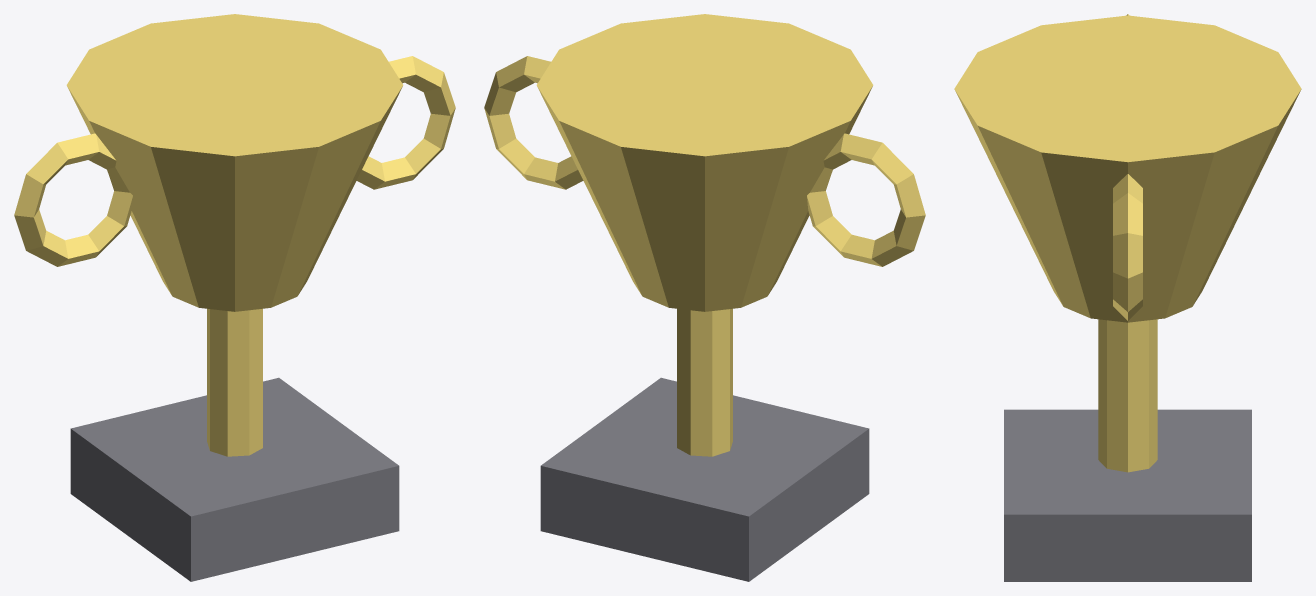
File: trofeo.glb
3 views of the same model, side by side, from view 1: azimuth 30°, elevation 25°; view 2: azimuth 150°, elevation 25°; view 3: azimuth 270°, elevation 25° (orthographic). The views are drawn at different scales.
Visible parts, largest first — view 1: trofeo; view 2: trofeo; view 3: trofeo.
Boxes of the visible parts, left/top/right/bottom form: trofeo: left=14, top=14, right=455, bottom=581; trofeo: left=484, top=14, right=925, bottom=581; trofeo: left=954, top=14, right=1301, bottom=581.
Bounding box in the file's own units: 1.06 × 0.98 × 0.7.
